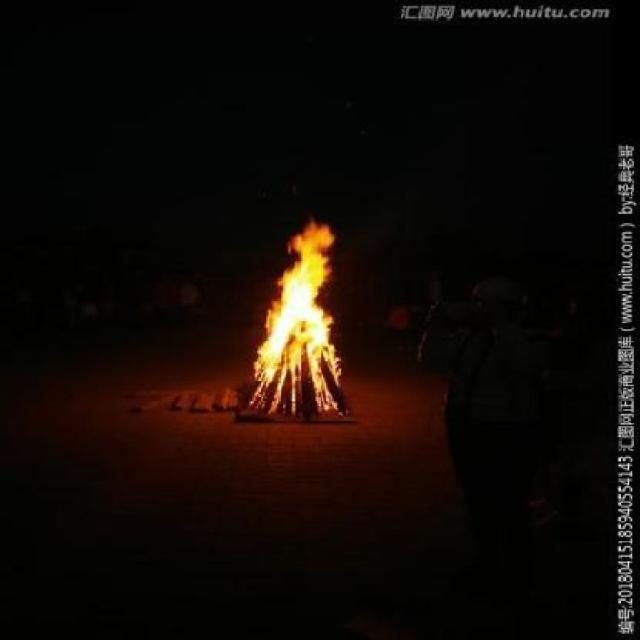Fire: (246, 220, 348, 424)
